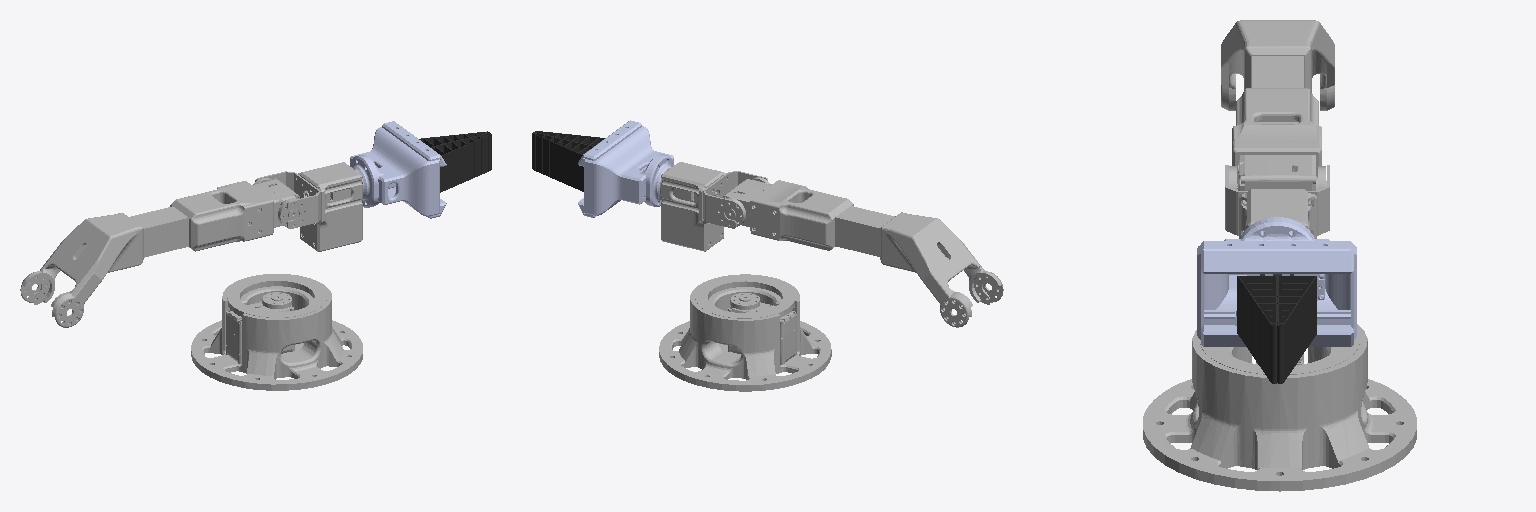
robot.urdf — robotarm1:
<?xml version="1.0" encoding="utf-8"?>
<!-- This URDF was automatically created by SolidWorks to URDF Exporter! Originally created by Stephen Brawner (brawner@gmail.com) 
     Commit Version: 1.6.0-4-g7f85cfe  Build Version: 1.6.7995.38578
     For more information, please see http://wiki.ros.org/sw_urdf_exporter -->
<robot
  name="robotarm1">
  <link
    name="base_link">
    <inertial>
      <origin
        xyz="0.0035407 -1.3568E-06 0.025751"
        rpy="0 0 0" />
      <mass
        value="0.4726" />
      <inertia
        ixx="0.00072672"
        ixy="-5.0643E-10"
        ixz="-1.7068E-05"
        iyy="0.00071621"
        iyz="2.091E-09"
        izz="0.0011346" />
    </inertial>
    <visual>
      <origin
        xyz="0 0 0"
        rpy="0 0 0" />
      <geometry>
        <mesh
          filename="package://robotarm_description/meshes/base_link.STL" />
      </geometry>
      <material
        name="">
        <color
          rgba="0.75294 0.75294 0.75294 1" />
      </material>
    </visual>
    <collision>
      <origin
        xyz="0 0 0"
        rpy="0 0 0" />
      <geometry>
        <mesh
          filename="package://robotarm_description/meshes/base_link.STL" />
      </geometry>
    </collision>
  </link>
  <link
    name="link_1">
    <inertial>
      <origin
        xyz="-4.9898E-05 0.00017226 0.022722"
        rpy="0 0 0" />
      <mass
        value="0.25582" />
      <inertia
        ixx="0.00016823"
        ixy="-3.9638E-10"
        ixz="7.118E-09"
        iyy="0.00018112"
        iyz="1.3521E-07"
        izz="0.00027506" />
    </inertial>
    <visual>
      <origin
        xyz="0 0 0"
        rpy="0 0 0" />
      <geometry>
        <mesh
          filename="package://robotarm_description/meshes/link_1.STL" />
      </geometry>
      <material
        name="">
        <color
          rgba="0.75294 0.75294 0.75294 1" />
      </material>
    </visual>
    <collision>
      <origin
        xyz="0 0 0"
        rpy="0 0 0" />
      <geometry>
        <mesh
          filename="package://robotarm_description/meshes/link_1.STL" />
      </geometry>
    </collision>
  </link>
  <joint
    name="joint_1"
    type="revolute">
    <origin
      xyz="0 0 0.0617"
      rpy="0 0 0" />
    <parent
      link="base_link" />
    <child
      link="link_1" />
    <axis
      xyz="0 0 -1" />
    <limit
      lower="-1.571"
      upper="1.571"
      effort="8.33"
      velocity="1" />
  </joint>
  <link
    name="link_2">
    <inertial>
      <origin
        xyz="-0.14839 -0.035723 -0.00051627"
        rpy="0 0 0" />
      <mass
        value="0.2619" />
      <inertia
        ixx="0.00011734"
        ixy="9.7901E-08"
        ixz="-2.6563E-07"
        iyy="0.00020884"
        iyz="-8.1261E-10"
        izz="0.00024931" />
    </inertial>
    <visual>
      <origin
        xyz="0 0 0"
        rpy="0 0 0" />
      <geometry>
        <mesh
          filename="package://robotarm_description/meshes/link_2.STL" />
      </geometry>
      <material
        name="">
        <color
          rgba="0.75294 0.75294 0.75294 1" />
      </material>
    </visual>
    <collision>
      <origin
        xyz="0 0 0"
        rpy="0 0 0" />
      <geometry>
        <mesh
          filename="package://robotarm_description/meshes/link_2.STL" />
      </geometry>
    </collision>
  </link>
  <joint
    name="joint_2"
    type="revolute">
    <origin
      xyz="-0.0002 0.03525 0.0605"
      rpy="0 0 0" />
    <parent
      link="link_1" />
    <child
      link="link_2" />
    <axis
      xyz="0 1 0" />
    <limit
      lower="0.0"
      upper="3.142"
      effort="15.7"
      velocity="1" />
  </joint>
  <link
    name="link_3">
    <inertial>
      <origin
        xyz="0.13843 -0.036185 0.042336"
        rpy="0 0 0" />
      <mass
        value="0.23372" />
      <inertia
        ixx="0.00012659"
        ixy="7.9944E-08"
        ixz="-2.7322E-05"
        iyy="0.00021713"
        iyz="-1.1736E-09"
        izz="0.00024224" />
    </inertial>
    <visual>
      <origin
        xyz="0 0 0"
        rpy="0 0 0" />
      <geometry>
        <mesh
          filename="package://robotarm_description/meshes/link_3.STL" />
      </geometry>
      <material
        name="">
        <color
          rgba="0.75294 0.75294 0.75294 1" />
      </material>
    </visual>
    <collision>
      <origin
        xyz="0 0 0"
        rpy="0 0 0" />
      <geometry>
        <mesh
          filename="package://robotarm_description/meshes/link_3.STL" />
      </geometry>
    </collision>
  </link>
  <joint
    name="joint_3"
    type="revolute">
    <origin
      xyz="-0.26 -0.00065 -0.00065"
      rpy="0 0 0" />
    <parent
      link="link_2" />
    <child
      link="link_3" />
    <axis
      xyz="0 -1 0" />
    <limit
      lower="0"
      upper="3.142"
      effort="15.7"
      velocity="1" />
  </joint>
  <link
    name="link_4">
    <inertial>
      <origin
        xyz="0.051218 -0.032837 -0.013758"
        rpy="0 0 0" />
      <mass
        value="0.11094" />
      <inertia
        ixx="7.8087E-05"
        ixy="-1.8418E-09"
        ixz="2.4173E-07"
        iyy="6.4212E-05"
        iyz="-1.2842E-09"
        izz="5.1318E-05" />
    </inertial>
    <visual>
      <origin
        xyz="0 0 0"
        rpy="0 0 0" />
      <geometry>
        <mesh
          filename="package://robotarm_description/meshes/link_4.STL" />
      </geometry>
      <material
        name="">
        <color
          rgba="0.75294 0.75294 0.75294 1" />
      </material>
    </visual>
    <collision>
      <origin
        xyz="0 0 0"
        rpy="0 0 0" />
      <geometry>
        <mesh
          filename="package://robotarm_description/meshes/link_4.STL" />
      </geometry>
    </collision>
  </link>
  <joint
    name="joint_4"
    type="revolute">
    <origin
      xyz="0.2602 -0.00325 0.046162"
      rpy="0 0 0" />
    <parent
      link="link_3" />
    <child
      link="link_4" />
    <axis
      xyz="0 1 0" />
    <limit
      lower="-1.571"
      upper="1.571"
      effort="8.34"
      velocity="1" />
  </joint>
  <link
    name="link_5">
    <inertial>
      <origin
        xyz="0.038487 -0.0023009 -0.0005271"
        rpy="0 0 0" />
      <mass
        value="0.15528" />
      <inertia
        ixx="0.00015548"
        ixy="-1.4207E-06"
        ixz="-1.9441E-06"
        iyy="8.0351E-05"
        iyz="1.1046E-07"
        izz="0.00014779" />
    </inertial>
    <visual>
      <origin
        xyz="0 0 0"
        rpy="0 0 0" />
      <geometry>
        <mesh
          filename="package://robotarm_description/meshes/link_5.STL" />
      </geometry>
      <material
        name="">
        <color
          rgba="0.79216 0.81961 0.93333 1" />
      </material>
    </visual>
    <collision>
      <origin
        xyz="0 0 0"
        rpy="0 0 0" />
      <geometry>
        <mesh
          filename="package://robotarm_description/meshes/link_5.STL" />
      </geometry>
    </collision>
  </link>
  <joint
    name="joint_5"
    type="revolute">
    <origin
      xyz="0.0947 -0.03305 0.0003"
      rpy="0 0 0" />
    <parent
      link="link_4" />
    <child
      link="link_5" />
    <axis
      xyz="1 0 0" />
    <limit
      lower="-1.571"
      upper="1.571"
      effort="8.34"
      velocity="1" />
  </joint>
  
  
  <!-- Minimal TCP link (zero mass, small collision box) -->
  <link name="tcp_link">
    <inertial>
      <mass value="0.001" />  <!-- Near-zero mass -->
      <inertia ixx="1e-6" ixy="0" ixz="0" iyy="1e-6" iyz="0" izz="1e-6" />
    </inertial>
    <visual>
      <geometry><box size="0.0001 0.0001 0.0001"/></geometry>  <!-- Tiny -->
    </visual>
    <!-- <collision>
      <geometry><box size="0.0001 0.0001 0.0001"/></geometry>
    </collision> -->
  </link>
  
  <!-- TCP Joint -->
  <joint name="tcp_joint" type="revolute">
    <origin xyz="0.12 0 0" rpy="0 0 0" />
    <parent link="link_5" />
    <child link="tcp_link" />  <!-- Child is now tcp_link -->
    <axis xyz="0 0 1" />
    <limit lower="-1.57" upper="1.57" effort="8.33" velocity="1" />
  </joint>
  
  <link
    name="link_6">
    <inertial>
      <origin
        xyz="0.024202 0.0075855 0.02005"
        rpy="0 0 0" />
      <mass
        value="0.011608" />
      <inertia
        ixx="2.0209E-06"
        ixy="4.1461E-07"
        ixz="4.8679E-20"
        iyy="8.1278E-06"
        iyz="-1.6936E-20"
        izz="7.0746E-06" />
    </inertial>
    <visual>
      <origin
        xyz="0 0 0"
        rpy="0 0 0" />
      <geometry>
        <mesh
          filename="package://robotarm_description/meshes/link_6.STL" />
      </geometry>
      <material
        name="">
        <color
          rgba="0.25098 0.25098 0.25098 1" />
      </material>
    </visual>
    <collision>
      <origin
        xyz="0 0 0"
        rpy="0 0 0" />
      <geometry>
        <mesh
          filename="package://robotarm_description/meshes/link_6.STL" />
      </geometry>
    </collision>
  </link>
  <joint
    name="joint_6"
    type="prismatic">
    <origin
      xyz="0.075 0 -0.02"
      rpy="0 0 0" />
    <parent
      link="link_5" />
    <child
      link="link_6" />
    <axis
      xyz="0 1 0" />
    <limit
      lower="0"
      upper="0.04"
      effort="3.34"
      velocity="1" />
    <mimic
      joint="joint_7"
      multiplier="-1"
      offset="0" />
  </joint>
  <link
    name="link_7">
    <inertial>
      <origin
        xyz="0.024202 -0.0074541 0.02005"
        rpy="0 0 0" />
      <mass
        value="0.011608" />
      <inertia
        ixx="2.0209E-06"
        ixy="-4.1461E-07"
        ixz="3.9129E-19"
        iyy="8.1278E-06"
        iyz="5.7177E-21"
        izz="7.0746E-06" />
    </inertial>
    <visual>
      <origin
        xyz="0 0 0"
        rpy="0 0 0" />
      <geometry>
        <mesh
          filename="package://robotarm_description/meshes/link_7.STL" />
      </geometry>
      <material
        name="">
        <color
          rgba="0.25098 0.25098 0.25098 1" />
      </material>
    </visual>
    <collision>
      <origin
        xyz="0 0 0"
        rpy="0 0 0" />
      <geometry>
        <mesh
          filename="package://robotarm_description/meshes/link_7.STL" />
      </geometry>
    </collision>
  </link>
  <joint
    name="joint_7"
    type="prismatic">
    <origin
      xyz="0.075 0 -0.02"
      rpy="0 0 0" />
    <parent
      link="link_5" />
    <child
      link="link_7" />
    <axis
      xyz="0 1 0" />
    <limit
      lower="-0.04"
      upper="0"
      effort="3.34"
      velocity="1" />
  </joint>
</robot>

--- Facts derived from the render (not from the file) ---
3 views of the same robot in one strip: view 1: azimuth 30°, elevation 25°; view 2: azimuth 150°, elevation 25°; view 3: azimuth 270°, elevation 25° (orthographic).
Model robotarm1 with 9 links and 8 joints (6 revolute, 2 prismatic), rooted at base_link, posed every joint at zero.
Visible links, largest first — view 1: link_3, base_link, link_5, link_4, link_7; view 2: link_3, base_link, link_5, link_4, link_6; view 3: base_link, link_3, link_5, link_4, link_6, link_7.
Link boxes in pixels (x1,y1,x2,y2): link_3: (20,178,304,327); base_link: (191,274,362,390); link_5: (350,121,446,218); link_4: (255,162,363,251); link_7: (430,133,491,192); link_3: (719,177,1003,327); base_link: (659,274,831,391); link_5: (578,120,673,217); link_4: (660,162,767,251); link_6: (532,132,592,191); base_link: (1143,324,1416,491); link_3: (1221,20,1334,190); link_5: (1197,217,1356,346); link_4: (1225,165,1329,238); link_6: (1277,274,1316,383); link_7: (1237,274,1276,383).
Bounding box of the posed robot: 0.5232 × 0.1717 × 0.202 m (x, y, z).
Meshes: 8 distinct files referenced, 6 mesh visuals loaded (6 binary STL); not drawn: 2 (reference not matched to a file when rendering).
